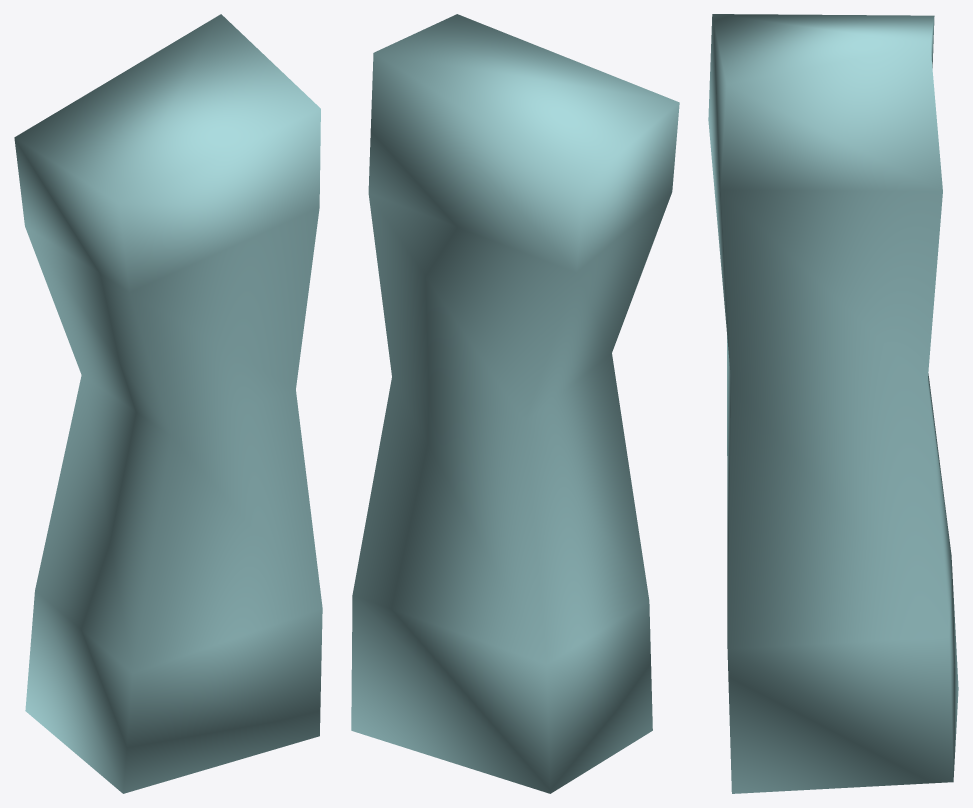
File: Skelly_f_middle.02.R.fbx
3 views of the same model, side by side, from view 1: azimuth 30°, elevation 25°; view 2: azimuth 150°, elevation 25°; view 3: azimuth 270°, elevation 25° (orthographic). The views are drawn at different scales.
Parts seen in each view (by area): view 1: Skelly_f_middle.02.R; view 2: Skelly_f_middle.02.R; view 3: Skelly_f_middle.02.R.
Part boxes in pixels (left/top/right/bottom): Skelly_f_middle.02.R: left=14, top=14, right=322, bottom=793; Skelly_f_middle.02.R: left=351, top=14, right=679, bottom=793; Skelly_f_middle.02.R: left=708, top=14, right=958, bottom=793.
Bounding box in the file's own units: 1.23 × 3.65 × 1.09.
